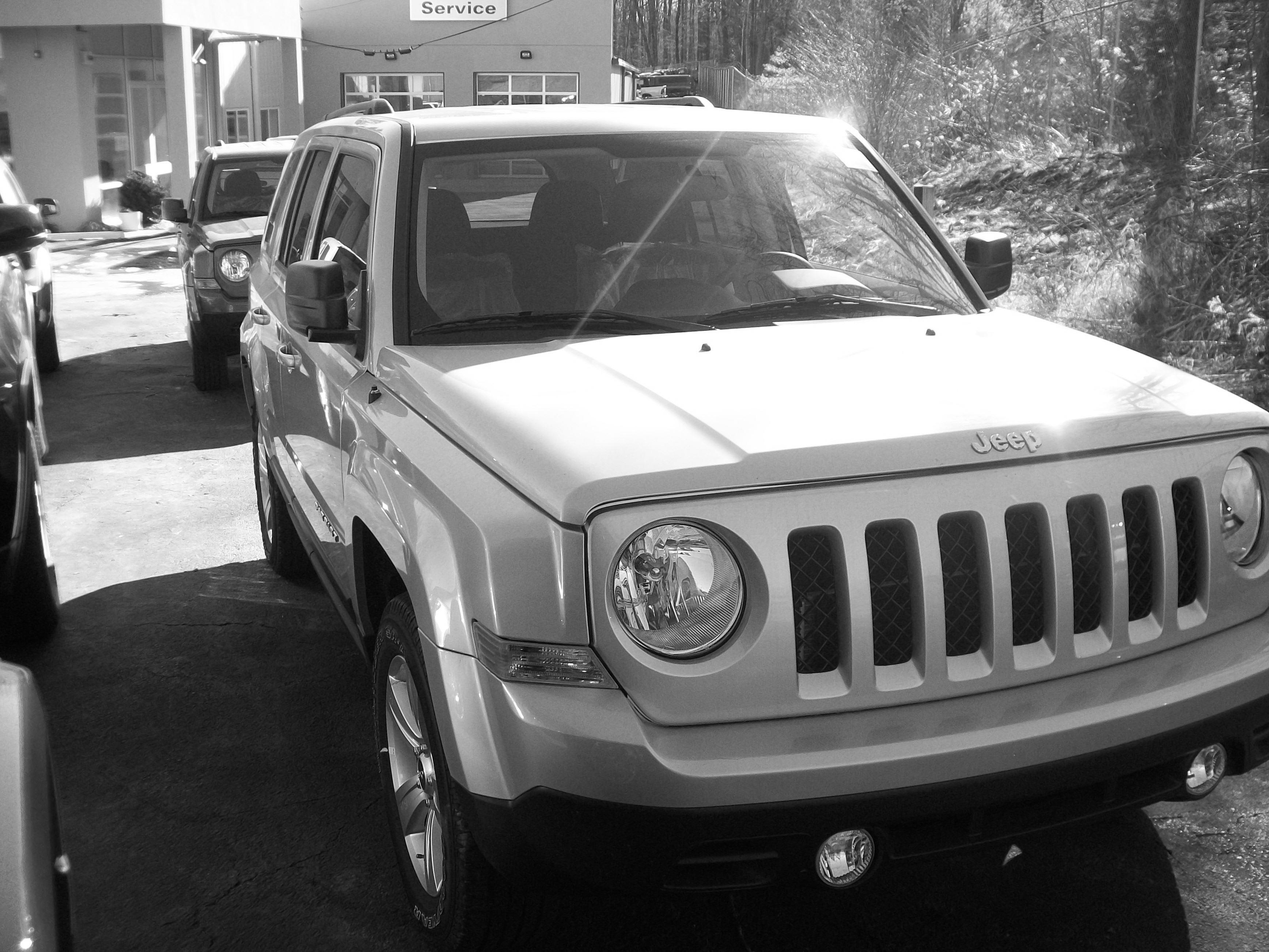car: (236, 103, 1266, 940)
